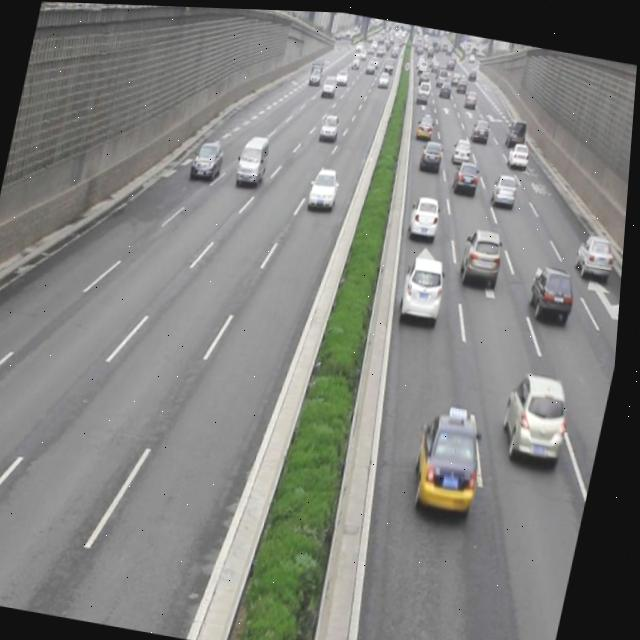car: (413, 405, 494, 515), (501, 365, 580, 465), (400, 249, 453, 322), (529, 259, 582, 324), (459, 221, 509, 287), (575, 227, 620, 281), (409, 190, 446, 238), (307, 163, 344, 210), (191, 135, 227, 178), (490, 168, 521, 205), (454, 155, 484, 192), (419, 133, 447, 171), (507, 137, 532, 166), (452, 133, 476, 162)
truck: (236, 130, 275, 186)
